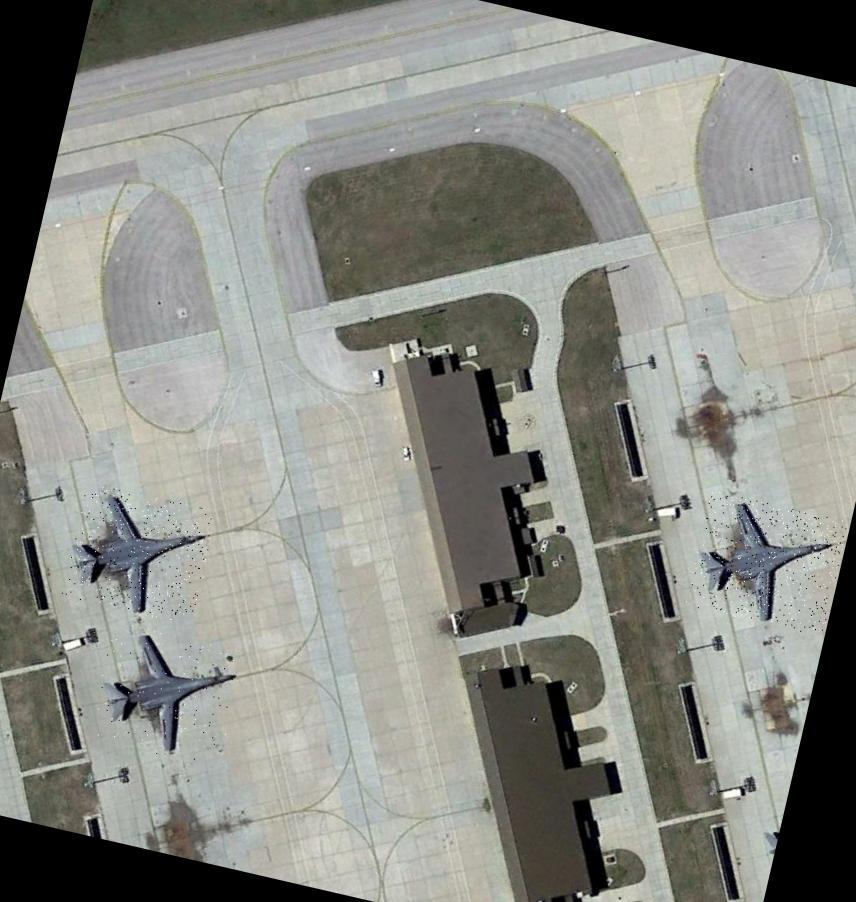A10: (684, 490, 849, 636), (88, 620, 246, 768), (61, 481, 217, 625)
